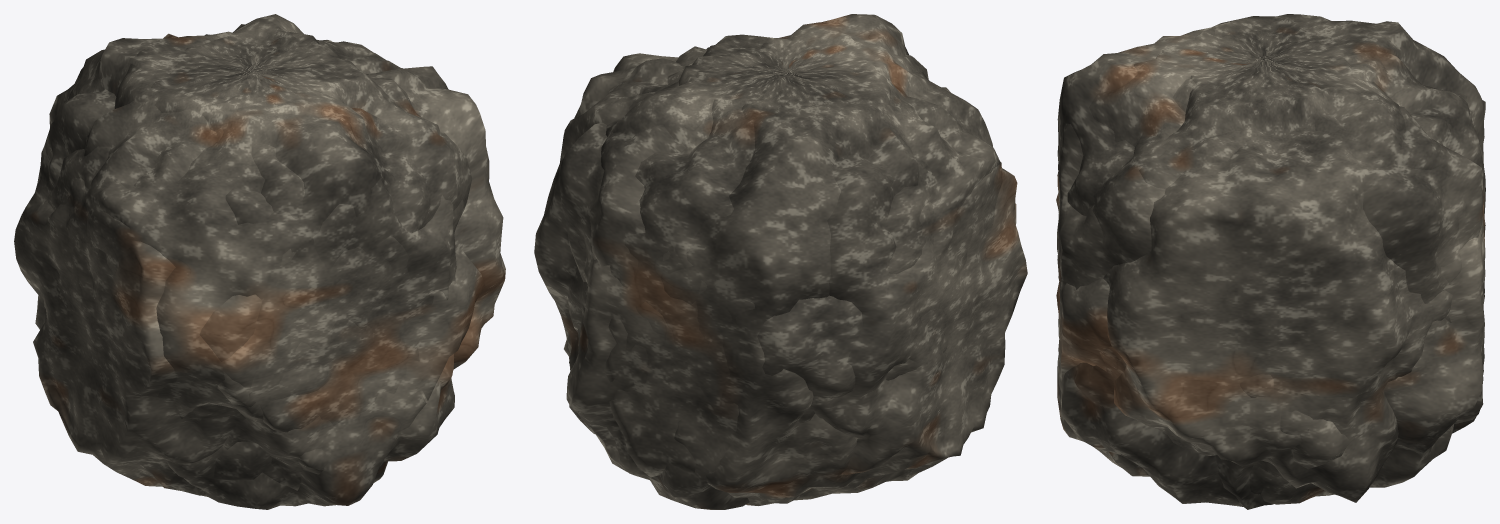
File: earth-rocks.glb
3 views of the same model, side by side, from view 1: azimuth 30°, elevation 25°; view 2: azimuth 150°, elevation 25°; view 3: azimuth 270°, elevation 25° (orthographic). The views are drawn at different scales.
Parts seen in each view (by area): view 1: EarthRock1, EarthRock0, EarthRock2; view 2: EarthRock0, EarthRock1, EarthRock2; view 3: EarthRock0, EarthRock1, EarthRock2.
Part boxes in pixels (<box>): EarthRock1: <box>44,33,485,509</box>; EarthRock0: <box>14,14,505,495</box>; EarthRock2: <box>49,24,464,490</box>; EarthRock0: <box>534,34,1027,493</box>; EarthRock1: <box>559,14,1016,509</box>; EarthRock2: <box>564,22,962,505</box>; EarthRock0: <box>1058,16,1452,509</box>; EarthRock1: <box>1056,14,1485,504</box>; EarthRock2: <box>1056,20,1485,506</box>.
Bounding box in the file's own units: 1.84 × 1.84 × 1.84.
1 material, 1 textured.
